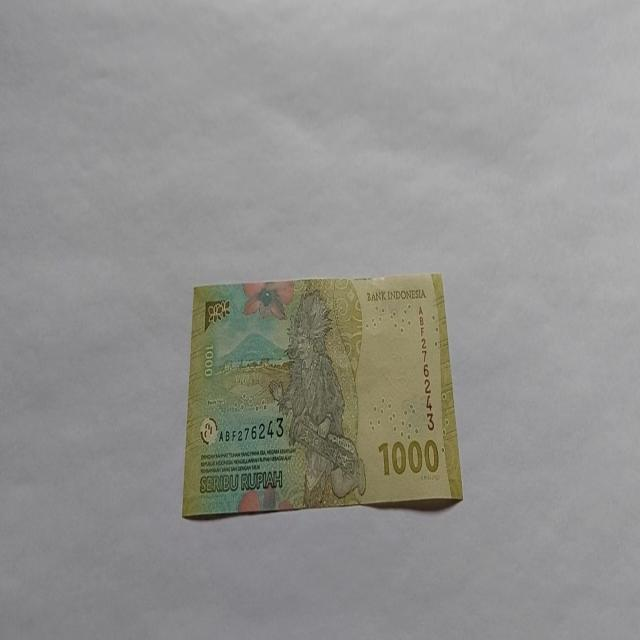seribu rupiah kertas: (181, 271, 463, 519)
